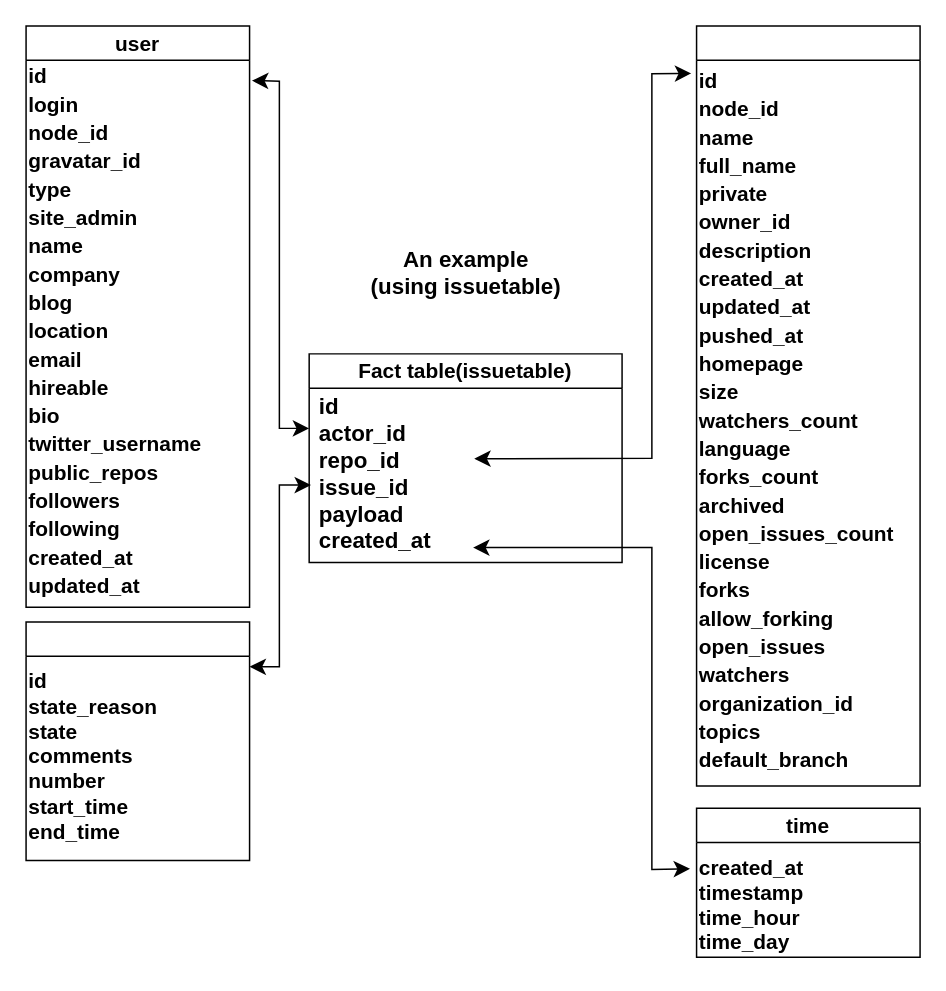
This 946x991 diagram has some shape labels left out. Here are the shapes that lost their labels. From the top down, the box of each, then its label:
(695, 25, 920, 786): repo
(25, 621, 250, 860): issue
